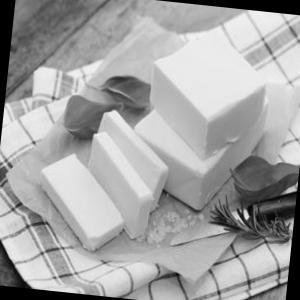butter: (27, 34, 268, 248)
